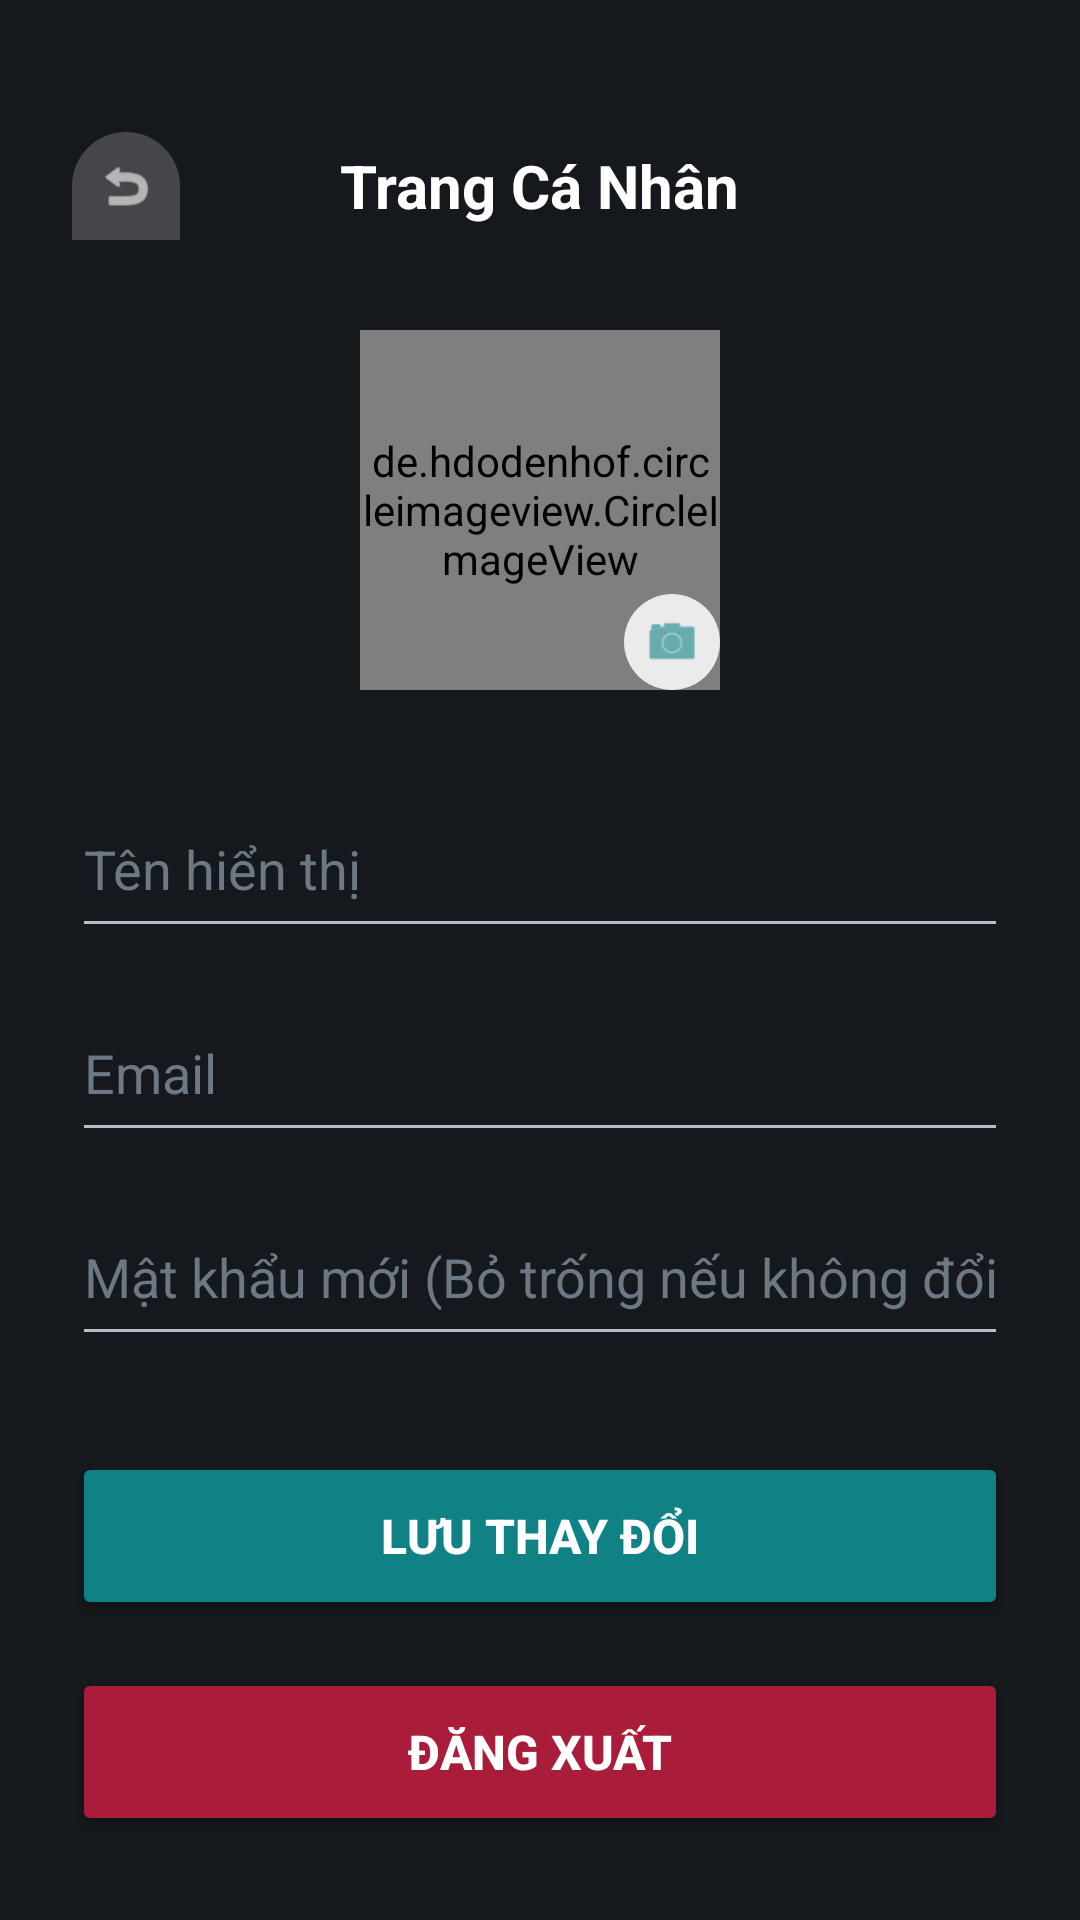

Screen size 1080px×1920px. Icon name, then its center in pixels as [x,y]:
camera: [672,642]
revert: [126,186]
